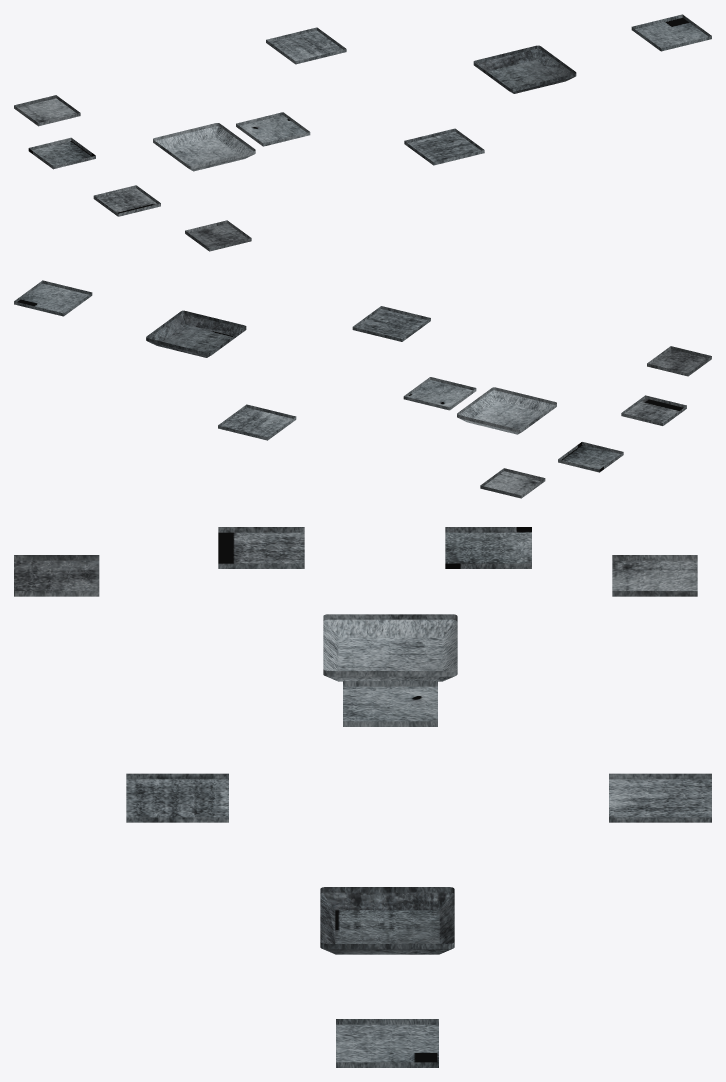
File: store_49.obj
3 renders of one model, top to bottom at view 1: azimuth 30°, elevation 25°; view 2: azimuth 150°, elevation 25°; view 3: azimuth 270°, elevation 25°, orthographic. The views are drawn at different scales.
Size of the model in its own units: 736 by 10.93 by 406.
